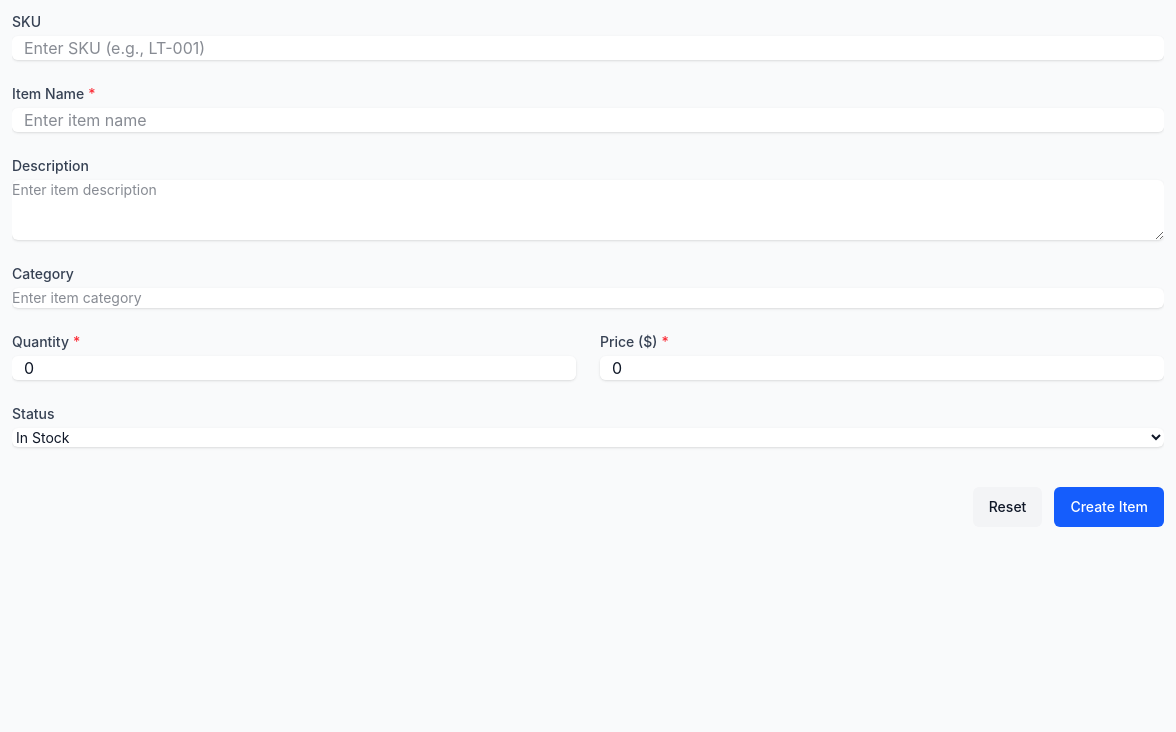
Test: ItemForm › clears error on input change when field has error
The image size is (1176, 732).
Submit the form
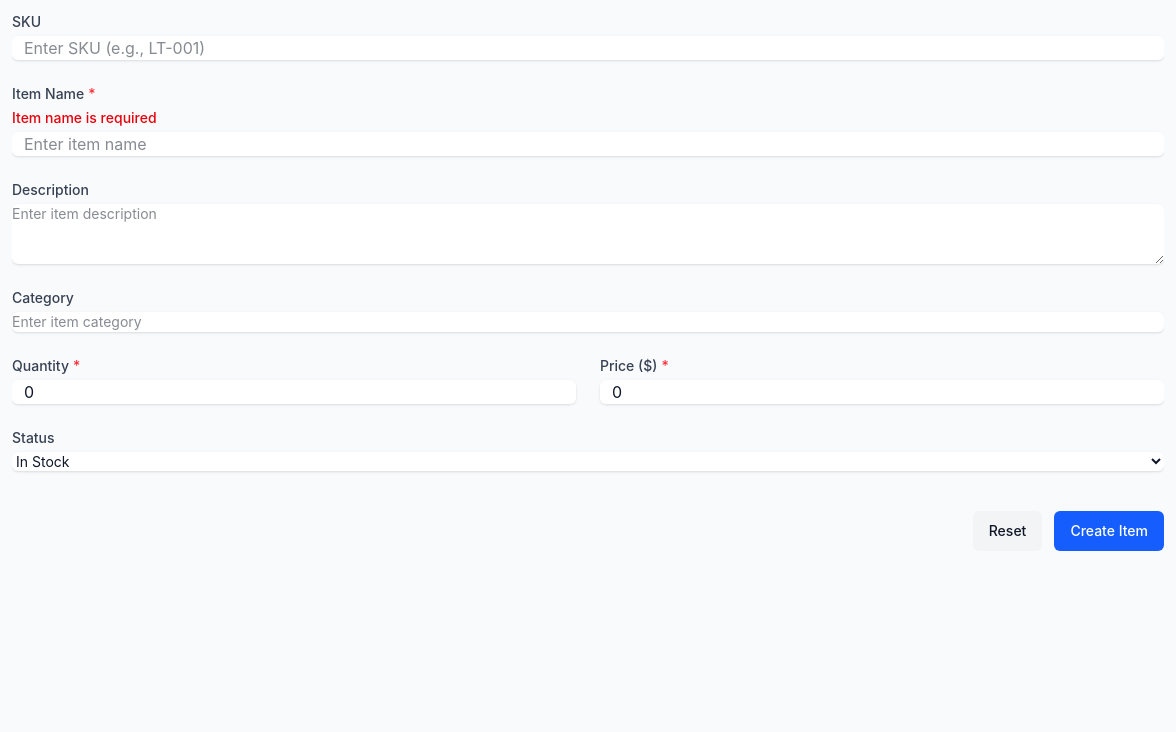
Check: the text "Item name is required" is shown, box [12,109,157,126]
Type "Test Item" into the field labelled "Item Name * Item name is required".
click(588, 144); type("Test Item")  # box [12,132,1164,156]
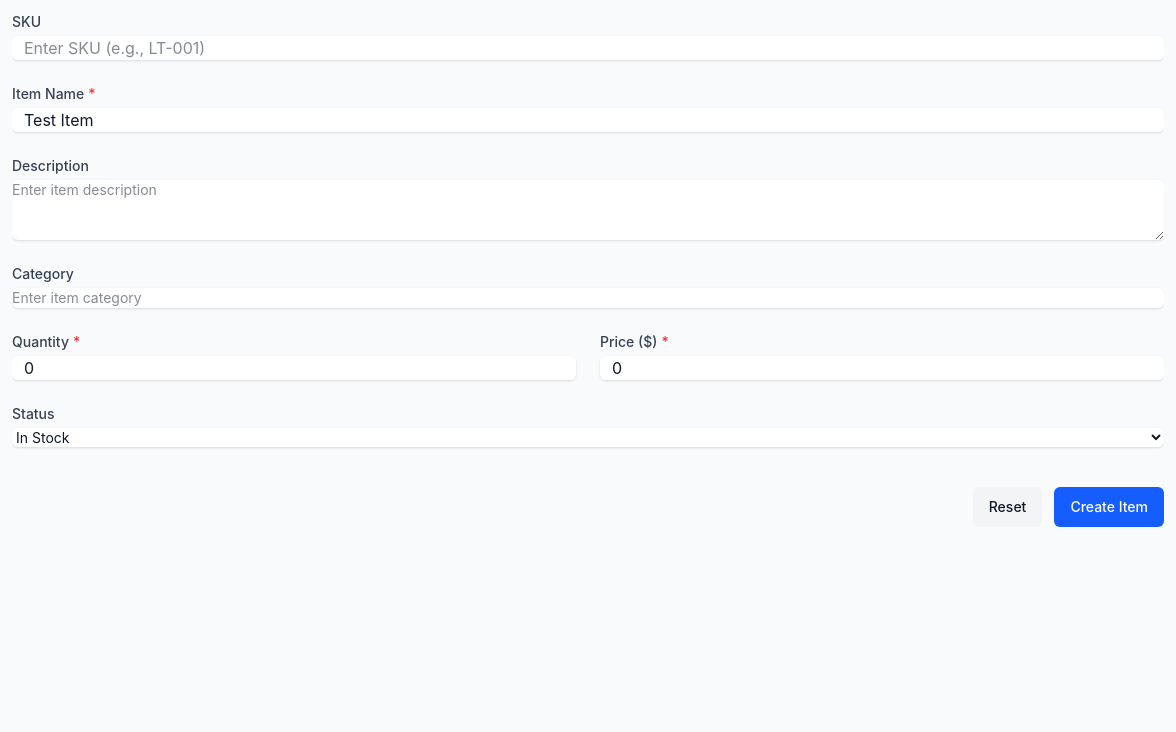
Check: the text "Item name is required" is gone
